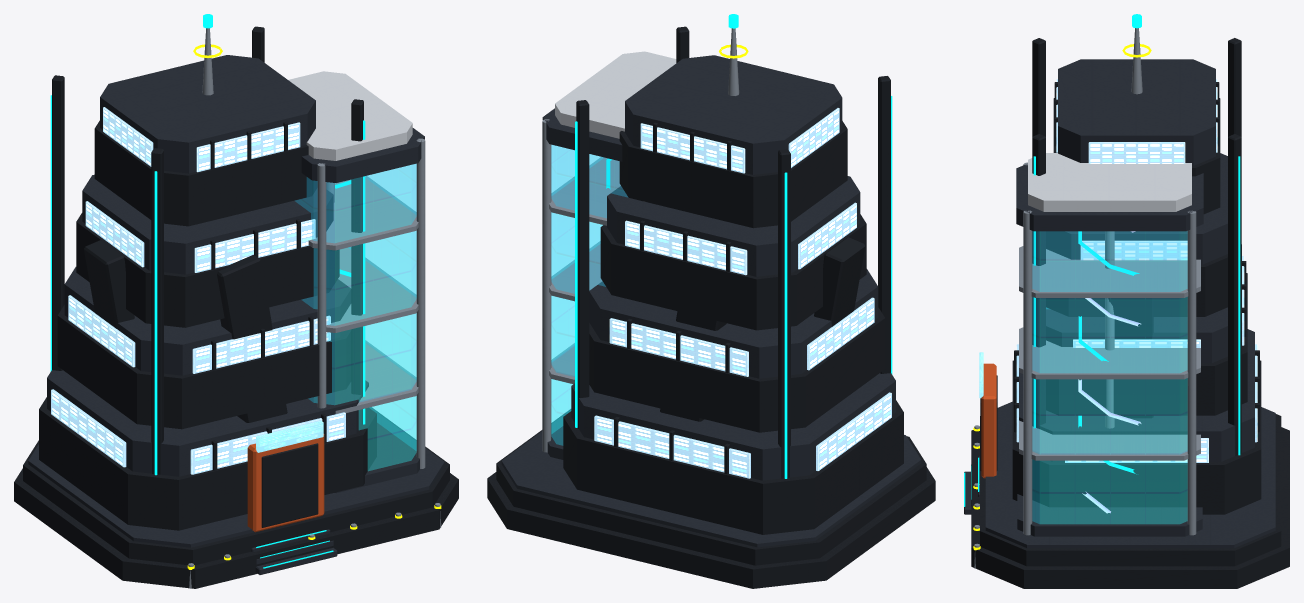
The model's file is bldg_10_r1_04.glb.
The picture shows the model from 3 angles, left to right: view 1: azimuth 30°, elevation 25°; view 2: azimuth 150°, elevation 25°; view 3: azimuth 270°, elevation 25°; orthographic projection. The views are drawn at different scales.
Visible parts, largest first — view 1: Bldg10_C04_gunmetal, Bldg10_C04_carbon_slate, Bldg10_C04_glass_cyan, Bldg10_C04_window_lit, Bldg10_C04_steel_machined, Bldg10_C04_aero_white, Bldg10_C04_led_cyan, Bldg10_C04_accent_orange, Bldg10_C04_marquee; view 2: Bldg10_C04_gunmetal, Bldg10_C04_carbon_slate, Bldg10_C04_window_lit, Bldg10_C04_glass_cyan, Bldg10_C04_steel_machined, Bldg10_C04_aero_white, Bldg10_C04_led_cyan; view 3: Bldg10_C04_gunmetal, Bldg10_C04_carbon_slate, Bldg10_C04_glass_cyan, Bldg10_C04_steel_machined, Bldg10_C04_aero_white, Bldg10_C04_window_lit, Bldg10_C04_led_cyan, Bldg10_C04_accent_orange, Bldg10_C04_led_uv.
Boxes of the visible parts, left/top/right/bottom form: Bldg10_C04_gunmetal: left=14, top=26, right=458, bottom=588; Bldg10_C04_carbon_slate: left=28, top=55, right=444, bottom=574; Bldg10_C04_glass_cyan: left=295, top=164, right=416, bottom=470; Bldg10_C04_window_lit: left=51, top=107, right=345, bottom=474; Bldg10_C04_steel_machined: left=188, top=28, right=441, bottom=588; Bldg10_C04_aero_white: left=288, top=71, right=412, bottom=160; Bldg10_C04_led_cyan: left=50, top=14, right=365, bottom=568; Bldg10_C04_accent_orange: left=247, top=434, right=324, bottom=532; Bldg10_C04_marquee: left=256, top=420, right=323, bottom=452; Bldg10_C04_gunmetal: left=487, top=26, right=935, bottom=588; Bldg10_C04_carbon_slate: left=501, top=55, right=921, bottom=547; Bldg10_C04_window_lit: left=594, top=108, right=891, bottom=478; Bldg10_C04_glass_cyan: left=551, top=145, right=627, bottom=445; Bldg10_C04_steel_machined: left=542, top=28, right=739, bottom=452; Bldg10_C04_aero_white: left=555, top=51, right=676, bottom=138; Bldg10_C04_led_cyan: left=575, top=14, right=892, bottom=478; Bldg10_C04_gunmetal: left=971, top=38, right=1289, bottom=588; Bldg10_C04_carbon_slate: left=964, top=59, right=1275, bottom=548; Bldg10_C04_glass_cyan: left=1032, top=231, right=1187, bottom=523; Bldg10_C04_steel_machined: left=974, top=28, right=1200, bottom=568; Bldg10_C04_aero_white: left=1028, top=153, right=1191, bottom=211; Bldg10_C04_window_lit: left=1016, top=79, right=1257, bottom=462; Bldg10_C04_led_cyan: left=964, top=14, right=1240, bottom=506; Bldg10_C04_accent_orange: left=981, top=363, right=996, bottom=478; Bldg10_C04_led_uv: left=1078, top=231, right=1141, bottom=513.
Bounding box in the file's own units: 12 × 16.62 × 10.23.
11 materials, 11 textured.
